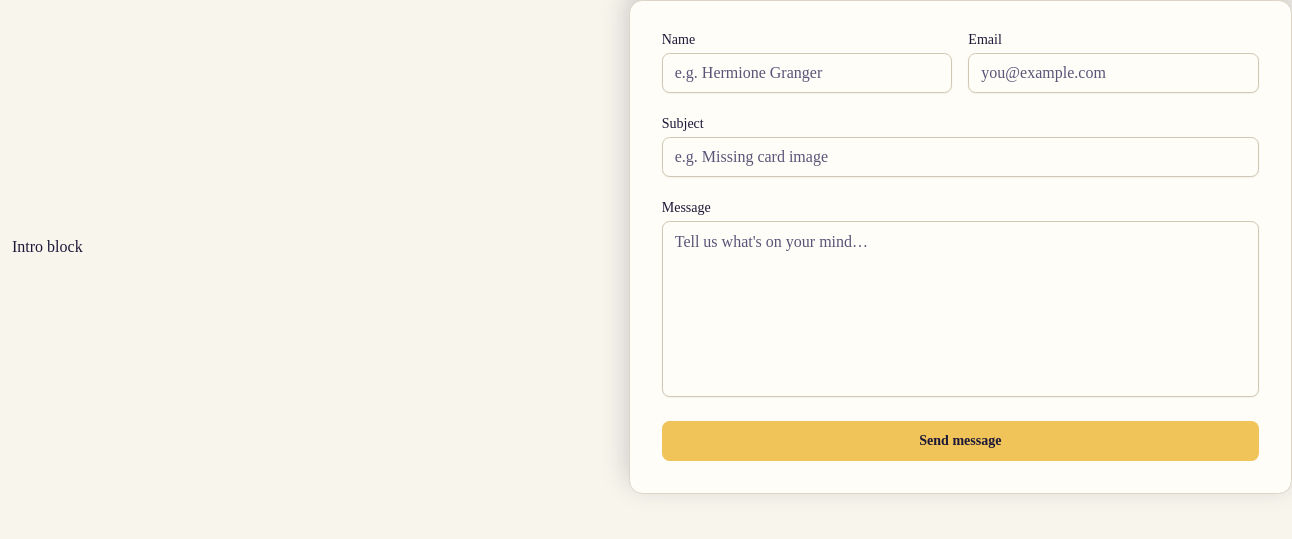
Test: ContactForm › shows a validation error and does not submit when the message is too short
Type "Hermione" into the field labelled "Name" at coordinates (807, 73), box [662,53,952,93]
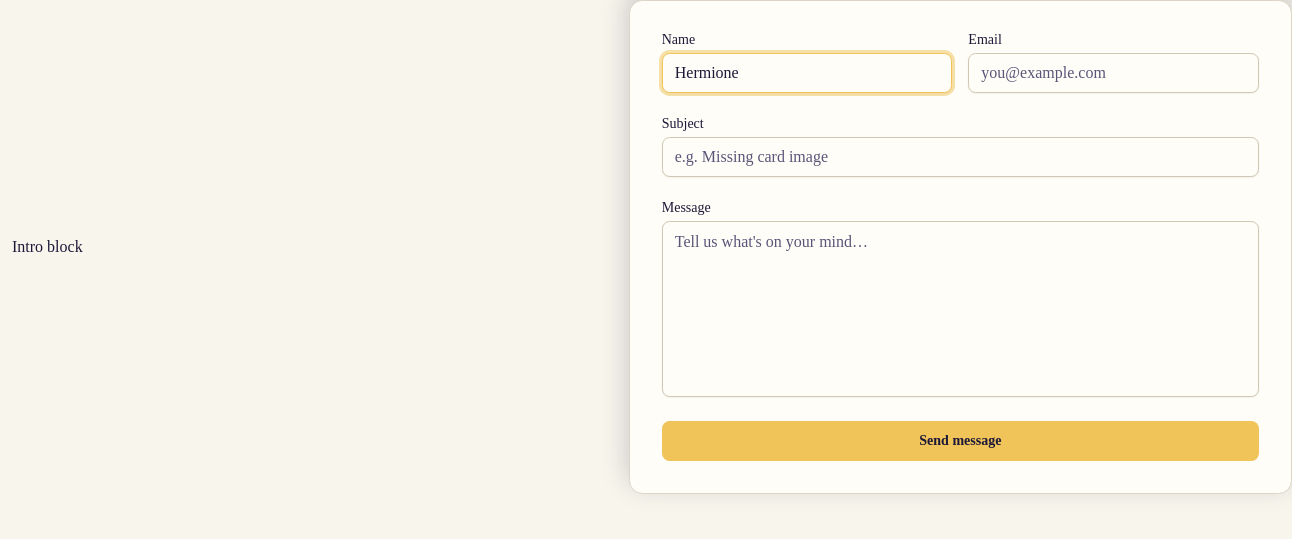
Type "hermione@example.com" into the field labelled "Email" at coordinates (1114, 73), box [968,53,1259,93]
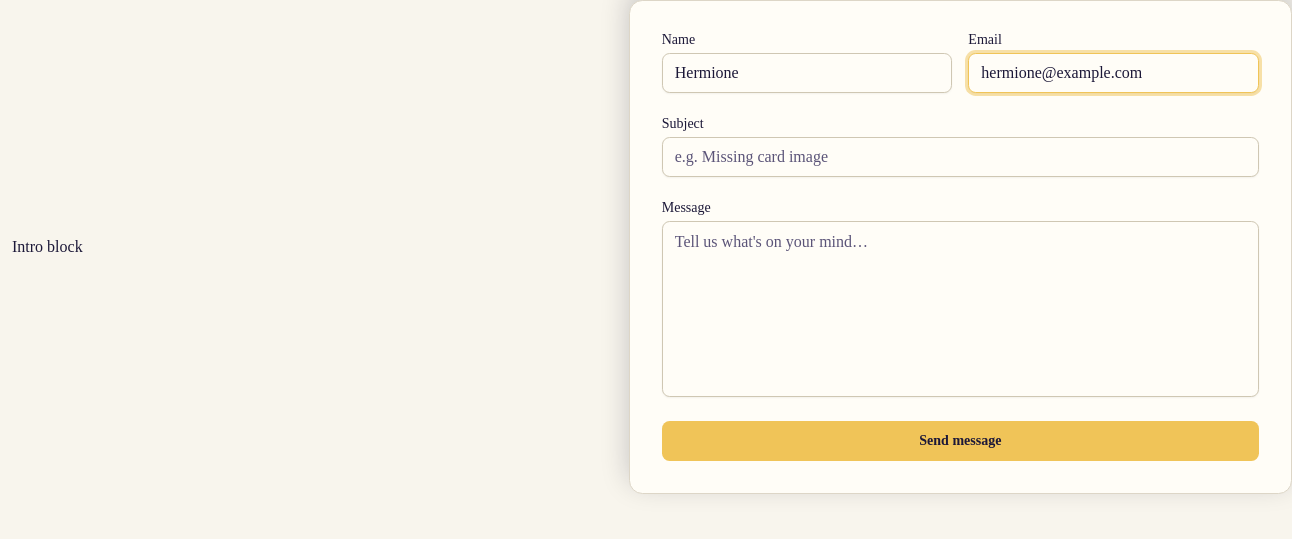
Type "Hi" into the field labelled "Subject" at coordinates (960, 157), box [662,137,1259,177]
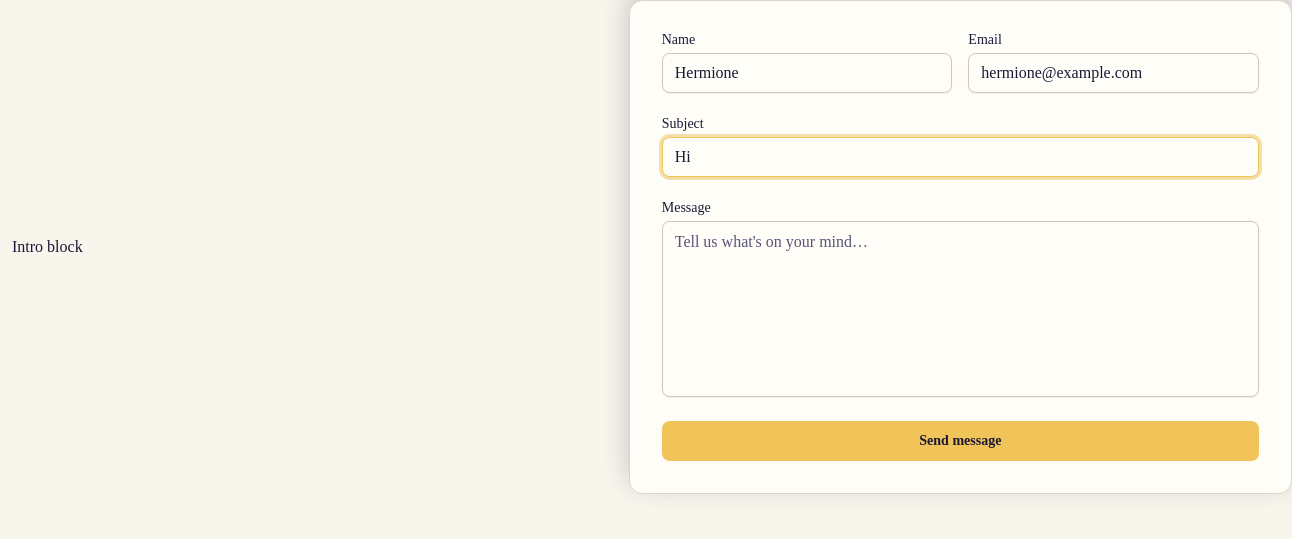
Type "short" into the text box labelled "Message" at coordinates (960, 309), box [662,221,1259,397]
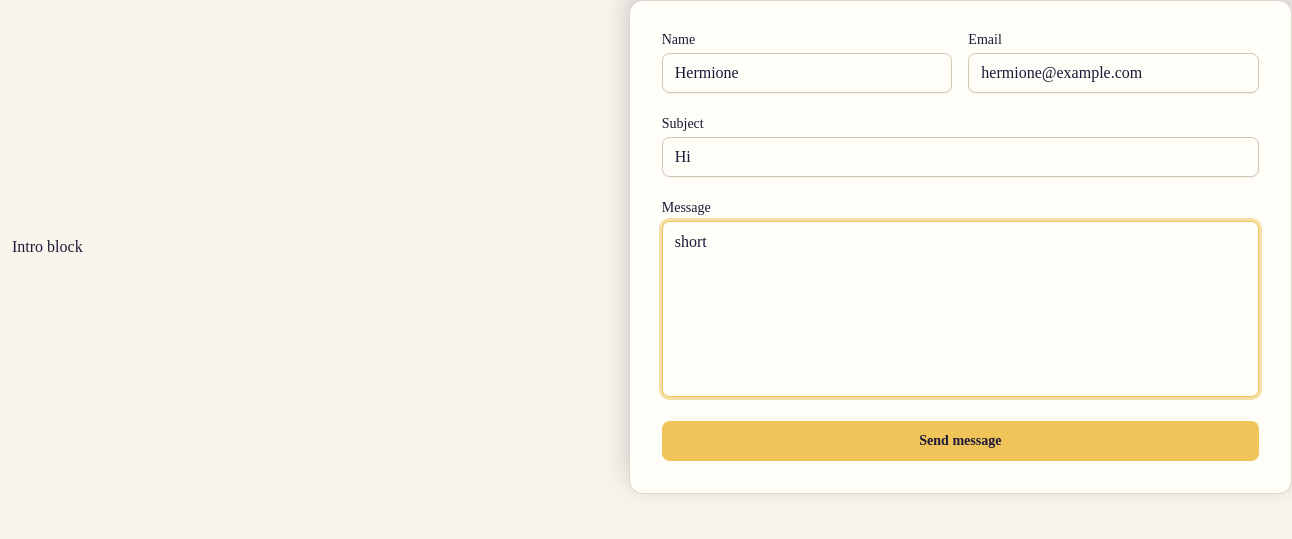
Click the button "Send message" at coordinates (960, 441), box [662,421,1259,461]
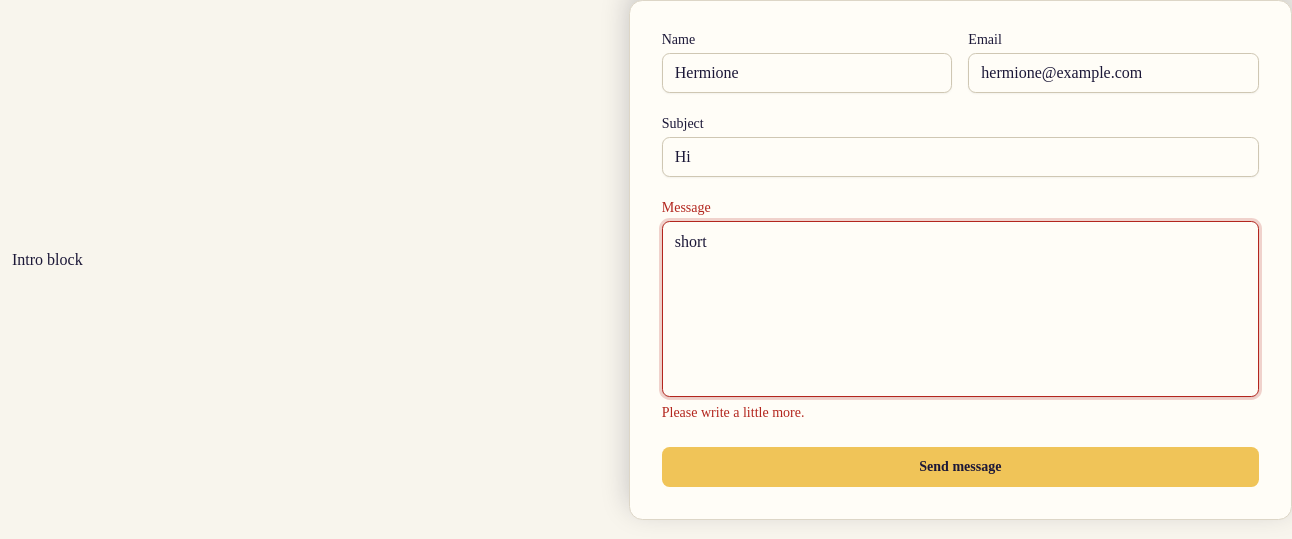
Now the text "Please write a little more." is shown, box [662,405,804,420]
